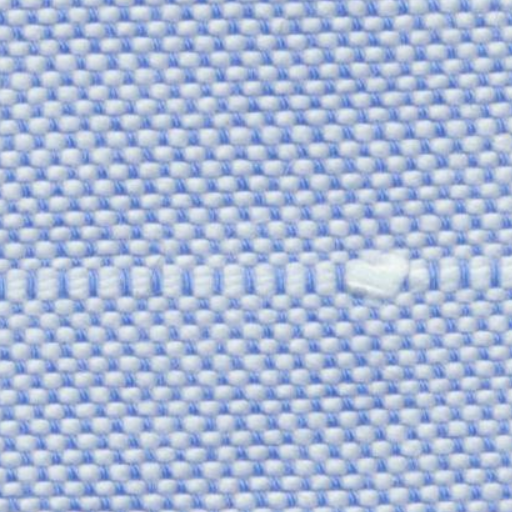MianQiu: (330, 234, 422, 326)
